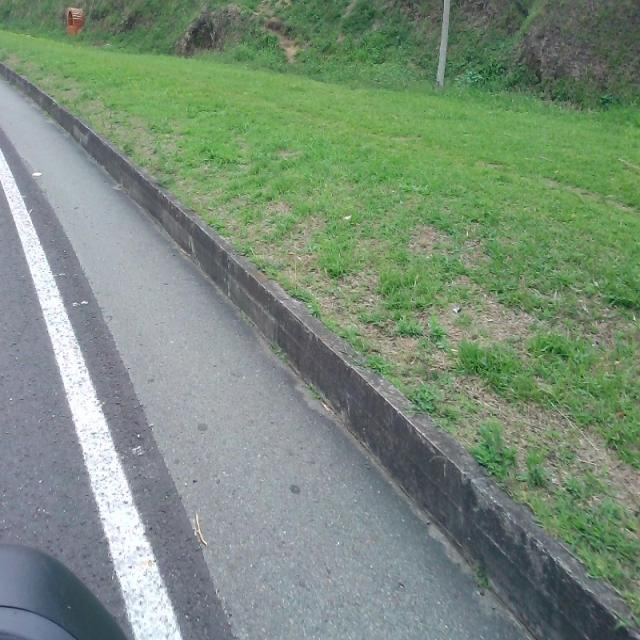DITCH: (4, 1, 638, 638), (1, 60, 638, 638), (1, 76, 638, 638)
